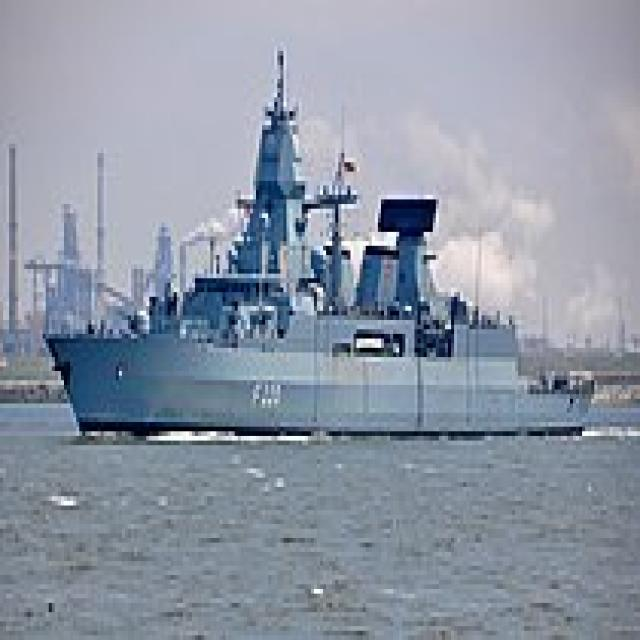Warship: (37, 42, 594, 431)
